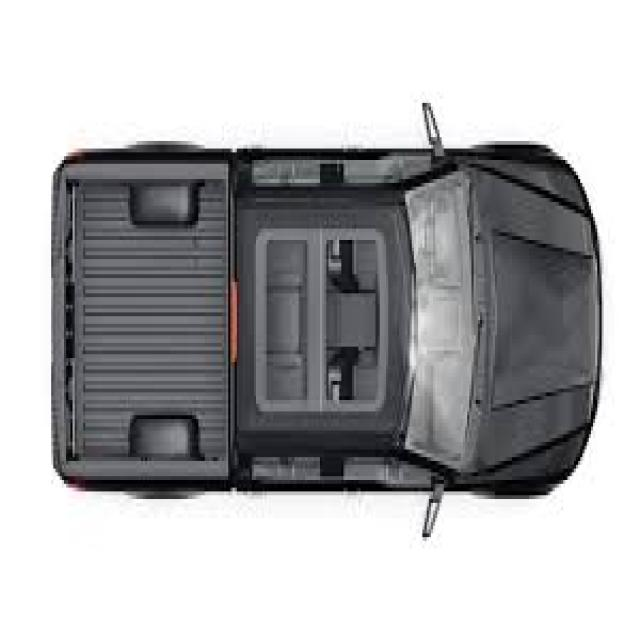truck: (48, 135, 600, 500)
